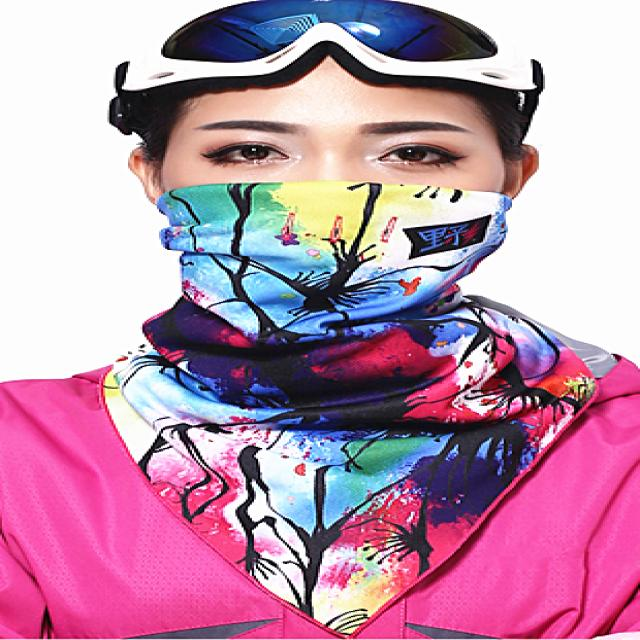mask: (170, 36, 499, 338)
